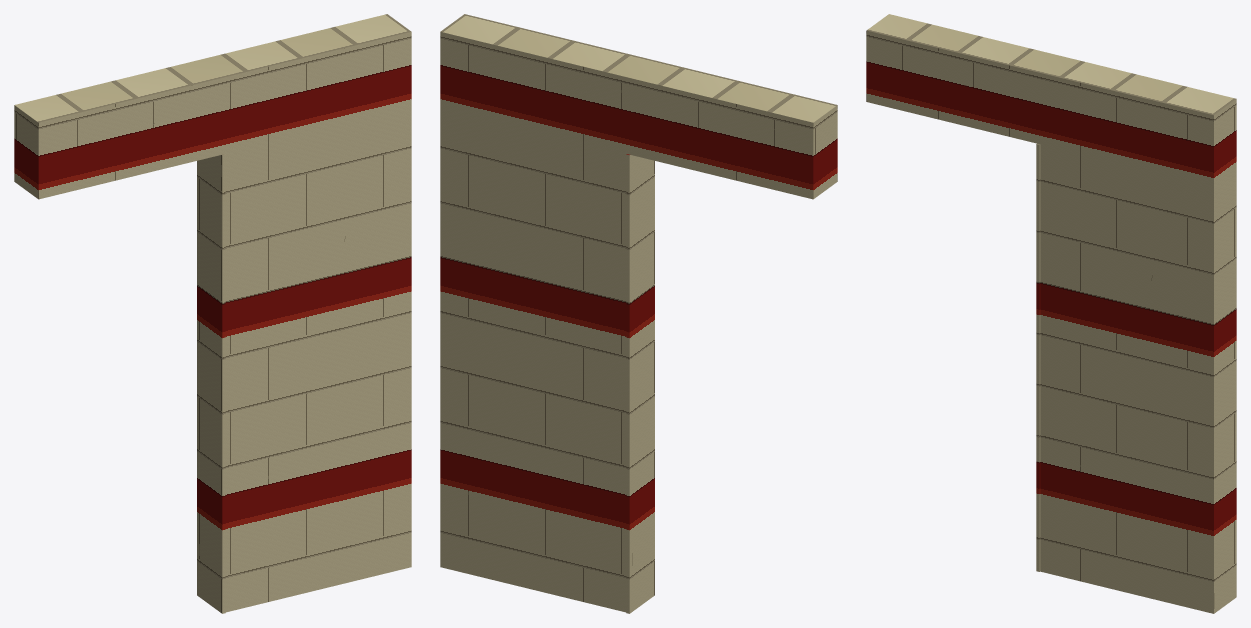
File: wall door slot v6 limewall open-side.glb
The picture shows the model from 3 angles, left to right: view 1: azimuth 30°, elevation 25°; view 2: azimuth 150°, elevation 25°; view 3: azimuth 330°, elevation 25°; orthographic projection. The views are drawn at different scales.
Parts seen in each view (by area): view 1: mesh_wall_door_slot_v6_limewall_open_side, mesh_wall_door_slot_v6_limewall_open_side_reveal; view 2: mesh_wall_door_slot_v6_limewall_open_side, mesh_wall_door_slot_v6_limewall_open_side_reveal; view 3: mesh_wall_door_slot_v6_limewall_open_side, mesh_wall_door_slot_v6_limewall_open_side_reveal.
Boxes of the visible parts, <box> form: mesh_wall_door_slot_v6_limewall_open_side: <box>14,14,411,612</box>; mesh_wall_door_slot_v6_limewall_open_side_reveal: <box>197,154,225,613</box>; mesh_wall_door_slot_v6_limewall_open_side: <box>440,14,837,612</box>; mesh_wall_door_slot_v6_limewall_open_side_reveal: <box>626,154,654,613</box>; mesh_wall_door_slot_v6_limewall_open_side: <box>866,14,1236,613</box>; mesh_wall_door_slot_v6_limewall_open_side_reveal: <box>1036,143,1040,571</box>.
Bounding box in the file's own units: 2 × 2.74 × 0.237.
3 materials, 3 textured.
